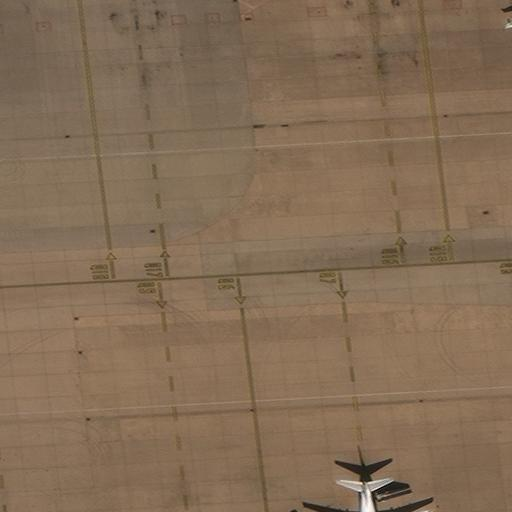Medium Civil Transport: (312, 481, 430, 511)
